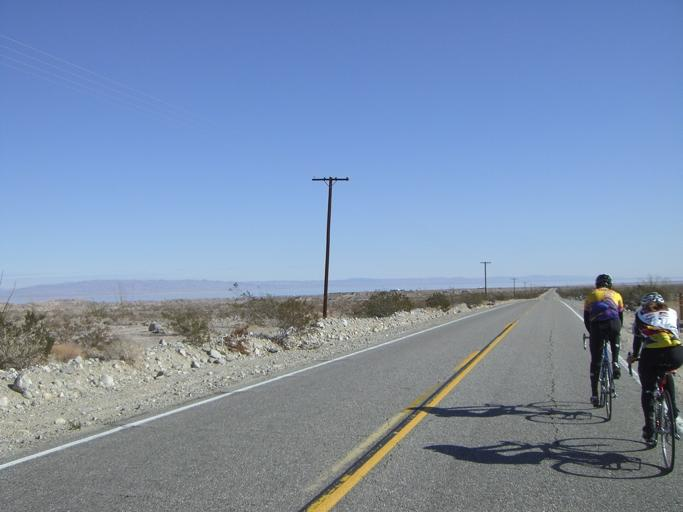non-vehicle: (620, 347, 678, 474), (580, 332, 616, 421)
